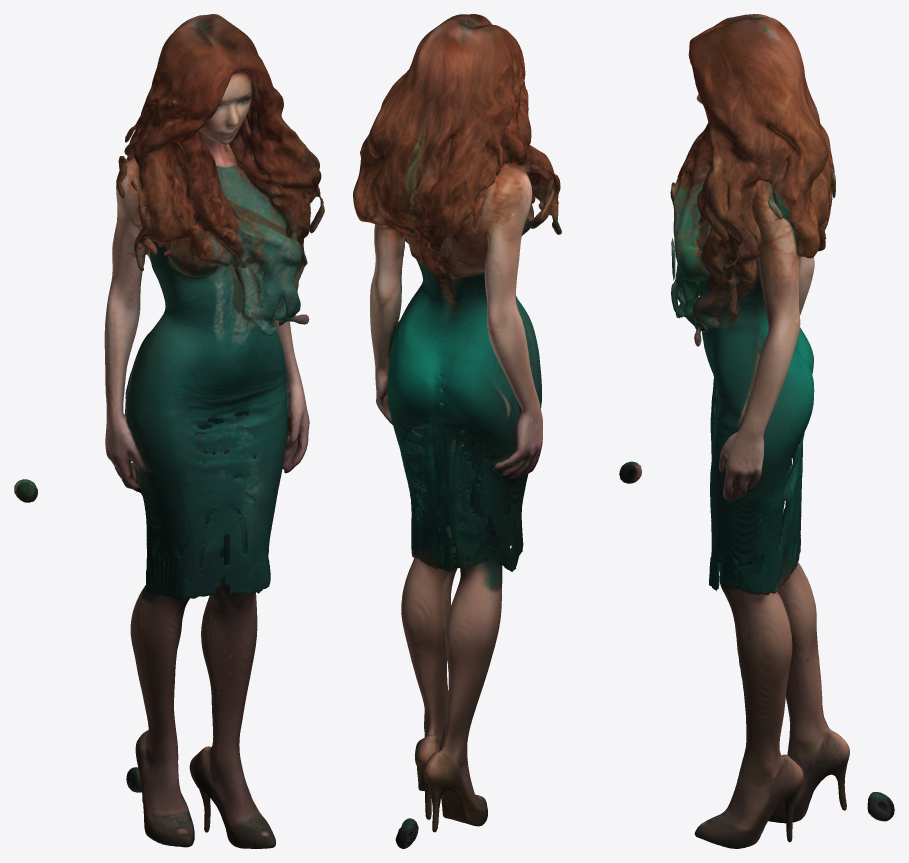
File: milla-body.glb
3 renders of one model, left to right at view 1: azimuth 30°, elevation 25°; view 2: azimuth 150°, elevation 25°; view 3: azimuth 270°, elevation 25°, orthographic. The views are drawn at different scales.
Size of the model in its own units: 0.7509 by 2.02 by 0.5009.
Materials: 1 (1 with a texture image).
